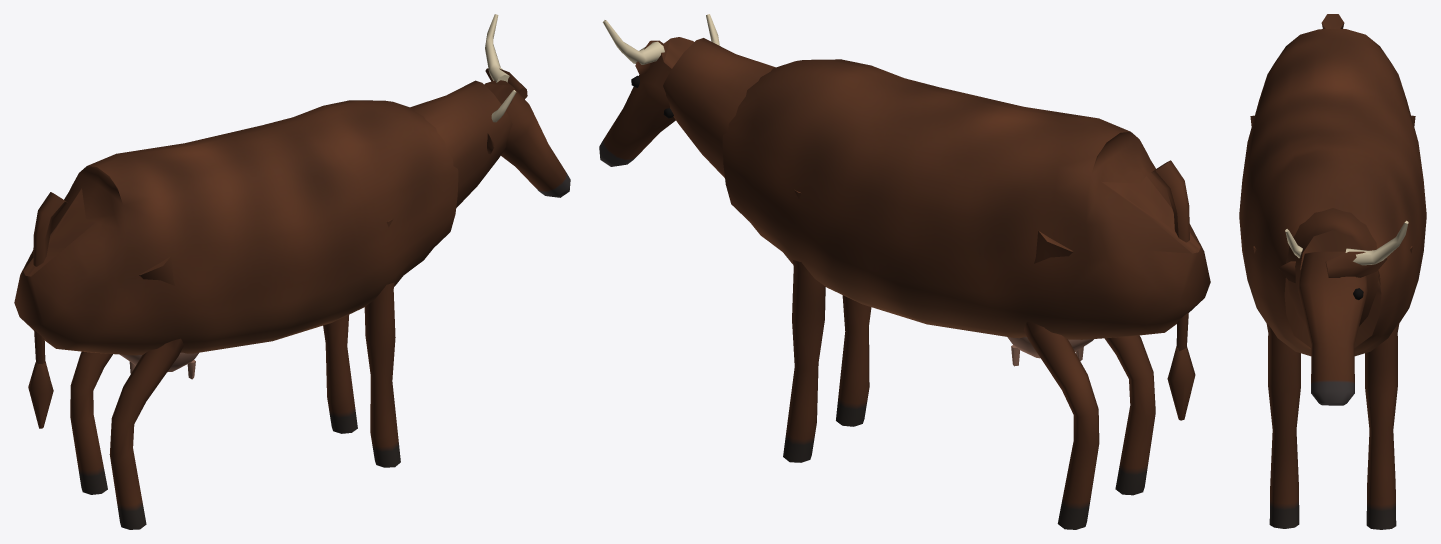
Rendered from tpl_life_stall_1325_cow_small_1_cattle_brown_stand_h.glb.
The picture shows the model from 3 angles, left to right: view 1: azimuth 30°, elevation 25°; view 2: azimuth 150°, elevation 25°; view 3: azimuth 270°, elevation 25°; orthographic projection. The views are drawn at different scales.
Visible parts, largest first — view 1: tpl_life_stall_1325_cow_small_1_cattle_brown_stand_h; view 2: tpl_life_stall_1325_cow_small_1_cattle_brown_stand_h; view 3: tpl_life_stall_1325_cow_small_1_cattle_brown_stand_h.
Part boxes in pixels (bbox=[...]): tpl_life_stall_1325_cow_small_1_cattle_brown_stand_h: bbox=[14, 14, 570, 529]; tpl_life_stall_1325_cow_small_1_cattle_brown_stand_h: bbox=[599, 14, 1210, 529]; tpl_life_stall_1325_cow_small_1_cattle_brown_stand_h: bbox=[1239, 14, 1426, 529].
Bounding box in the file's own units: 2.34 × 1.51 × 0.6588.
Materials: 3 (1 with a texture image).
